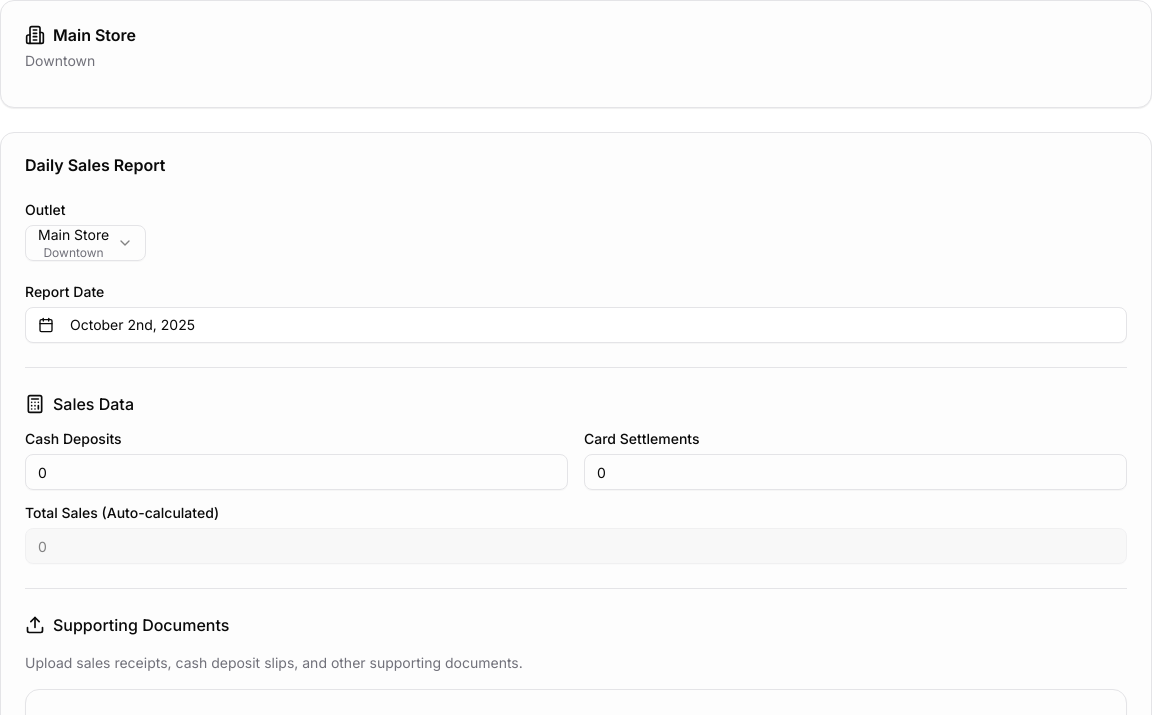
Scenario: SalesReportForm - Core Functionality › calculates total automatically
This screenshot has width=1152, height=715.
Replace the text in the number field labelled "Cash Deposits" with "100" at (296, 472), box [25,454,568,490]
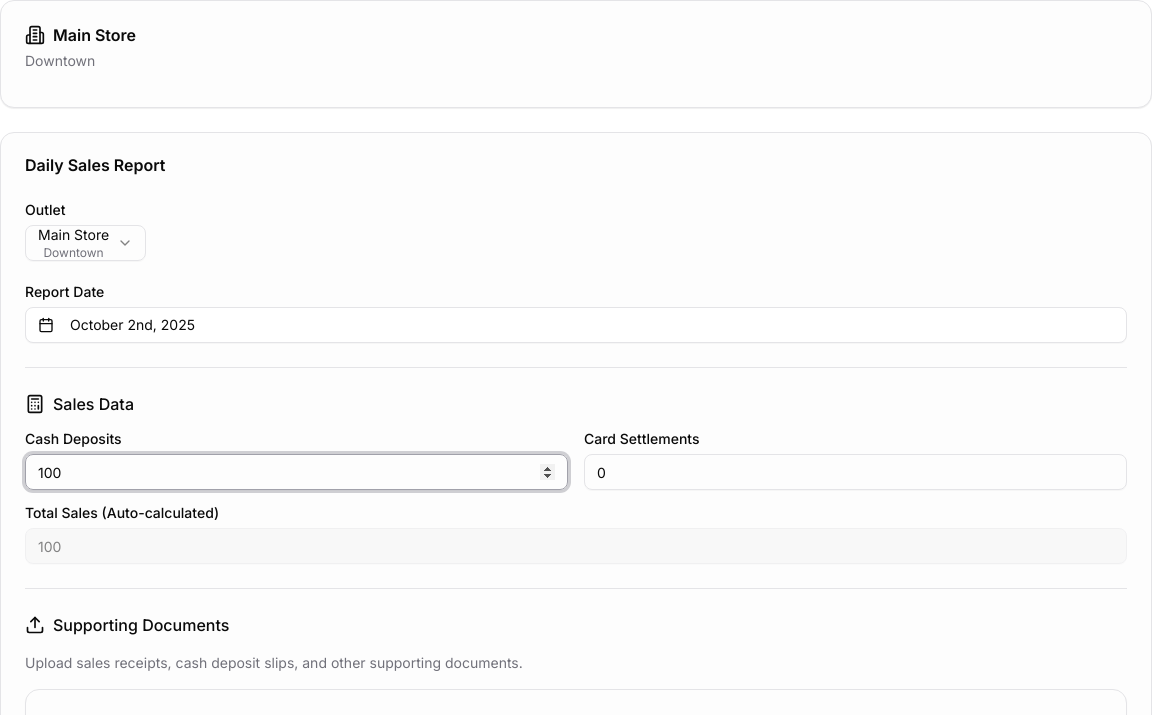
Replace the text in the number field labelled "Card Settlements" with "200" at (856, 472), box [584,454,1127,490]
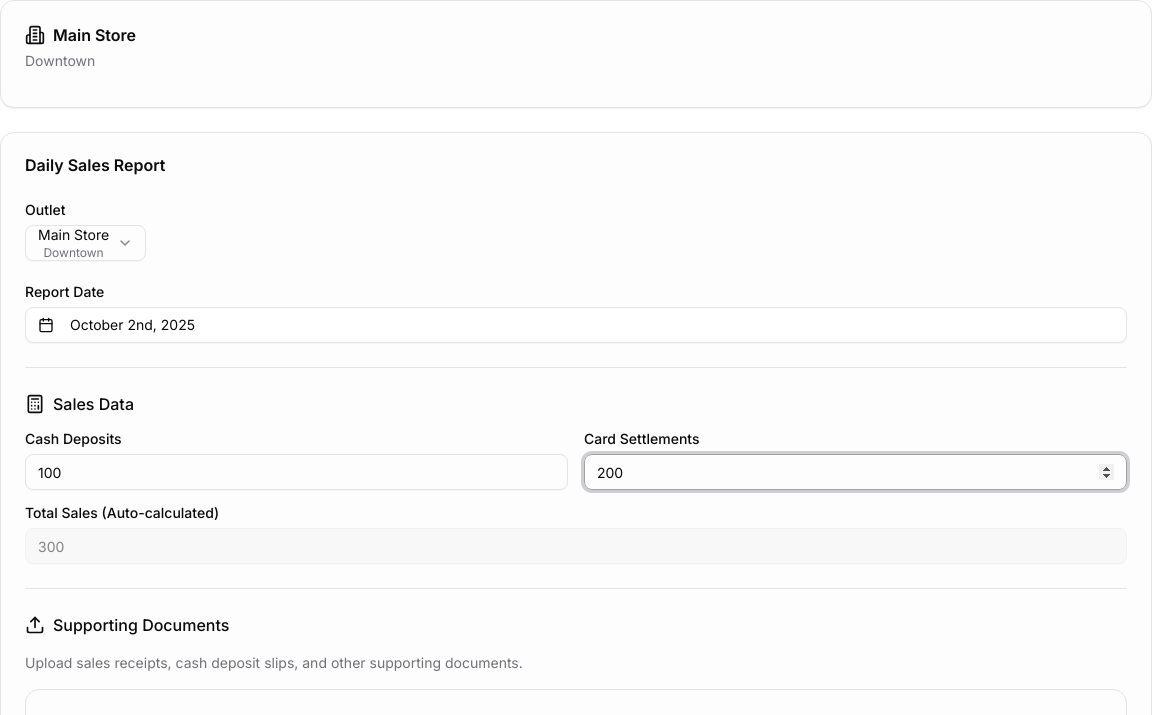
Expected: the number field labelled "Total Sales (Auto-calculated)" holds "300", [25,528,1127,564]
